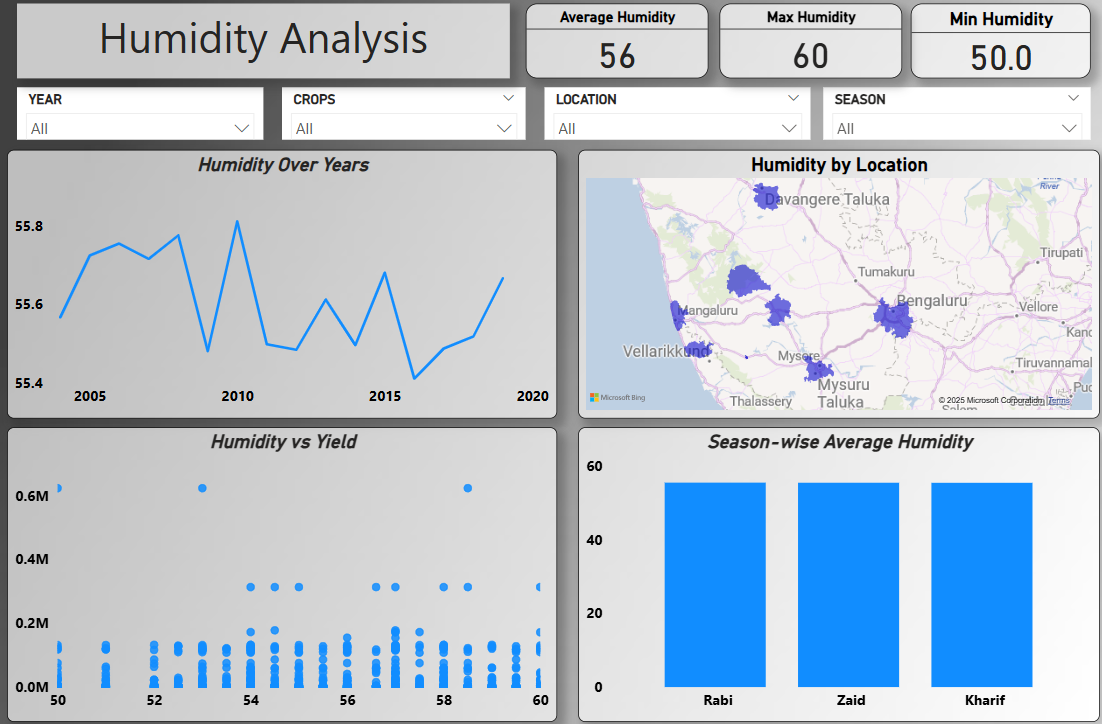

Layout of this report page (visuals, bound fields, positions):
{"tool":"powerbi","page":{"name":"Humidity Analysis","canvas":[1280,850],"ordinal":2},"visuals":[{"type":"lineChart","title":"Humidity Over Years","fields":{"Category":["AGRICULTURE.YEAR"],"Y":["Avg(AGRICULTURE.HUMIDITY)"]},"box":[11.4,175.7,628.6,307.1],"z":0},{"type":"filledMap","title":"Humidity by Location","fields":{"Category":["AGRICULTURE.LOCATION"]},"box":[664.3,175.7,595.7,307.1],"z":1000},{"type":"scatterChart","title":"Humidity vs Yield","fields":{"X":["AGRICULTURE.HUMIDITY"],"Y":["AGRICULTURE.YIELDS"]},"box":[11.4,492.9,628.6,337.1],"z":2000},{"type":"clusteredColumnChart","title":"Season-wise Average Humidity","fields":{"Category":["AGRICULTURE.SEASON"],"Y":["Avg(AGRICULTURE.HUMIDITY)"]},"box":[664.3,492.9,595.7,337.1],"z":3000},{"type":"slicer","fields":{"Values":["AGRICULTURE.YEAR"]},"box":[22.9,104.3,281.4,60],"z":4000},{"type":"card","title":"Average Humidity","fields":{"Values":["Avg(AGRICULTURE.HUMIDITY)"]},"box":[604.3,8.6,208.6,85.7],"z":5000},{"type":"card","title":"Min Humidity","fields":{"Values":["Min(AGRICULTURE.HUMIDITY)"]},"box":[1044.3,8.6,205.7,85.7],"z":6000},{"type":"slicer","fields":{"Values":["AGRICULTURE.CROPS"]},"box":[325.7,104.3,278.6,60],"z":7000},{"type":"slicer","fields":{"Values":["AGRICULTURE.LOCATION"]},"box":[625.7,104.3,304.3,60],"z":8000},{"type":"slicer","fields":{"Values":["AGRICULTURE.SEASON"]},"box":[944.3,104.3,305.7,60],"z":9000},{"type":"textbox","box":[22.9,8.6,562.9,85.7],"z":10000},{"type":"card","title":"Max Humidity","fields":{"Values":["Max(AGRICULTURE.HUMIDITY)"]},"box":[825.7,8.6,208.6,85.7],"z":11000}]}

Visuals, with their boxes in screenshot pixels (x1, y1, x2, y2), scaled from the page's 1280x850 canvas onto the 1102x724 screenshot:
"Humidity Over Years" lineChart: x1=10 y1=150 x2=551 y2=411
"Humidity by Location" filledMap: x1=572 y1=150 x2=1085 y2=411
"Humidity vs Yield" scatterChart: x1=10 y1=420 x2=551 y2=707
"Season-wise Average Humidity" clusteredColumnChart: x1=572 y1=420 x2=1085 y2=707
slicer - AGRICULTURE.YEAR: x1=20 y1=89 x2=262 y2=140
"Average Humidity" card: x1=520 y1=7 x2=700 y2=80
"Min Humidity" card: x1=899 y1=7 x2=1076 y2=80
slicer - AGRICULTURE.CROPS: x1=280 y1=89 x2=520 y2=140
slicer - AGRICULTURE.LOCATION: x1=539 y1=89 x2=801 y2=140
slicer - AGRICULTURE.SEASON: x1=813 y1=89 x2=1076 y2=140
textbox: x1=20 y1=7 x2=504 y2=80
"Max Humidity" card: x1=711 y1=7 x2=890 y2=80
